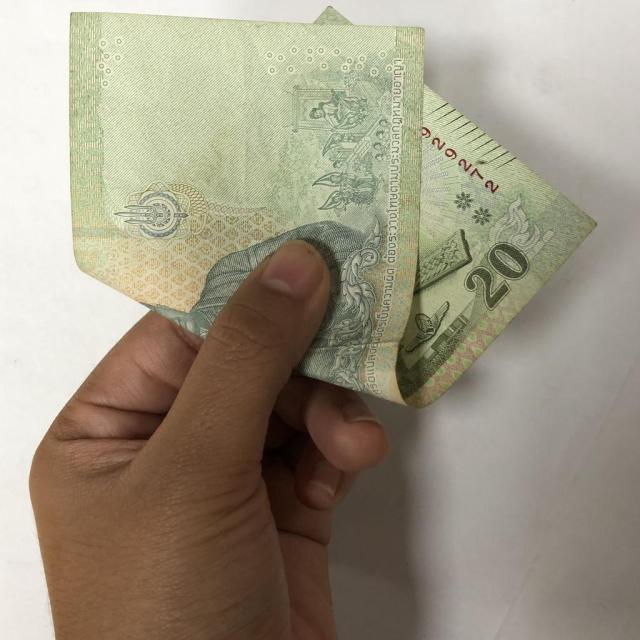THAI20: (68, 12, 597, 411)
